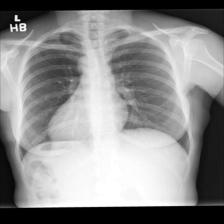normal: (12, 26, 198, 166)
